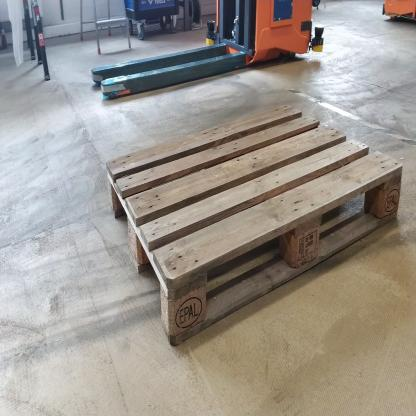BoxFace: (103, 96, 407, 356)
